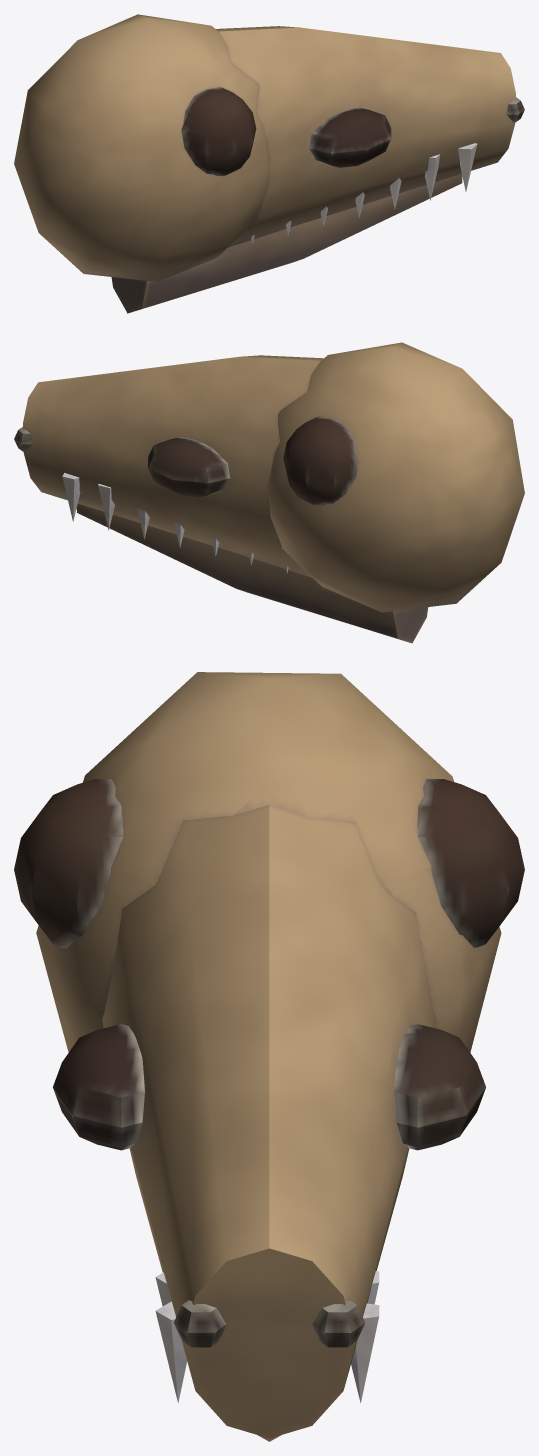
Rendered from dino_skull.glb.
The picture shows the model from 3 angles, top to bottom: view 1: azimuth 30°, elevation 25°; view 2: azimuth 150°, elevation 25°; view 3: azimuth 270°, elevation 25°; orthographic projection. The views are drawn at different scales.
Parts seen in each view (by area): view 1: SM_DinoSkull; view 2: SM_DinoSkull; view 3: SM_DinoSkull.
Boxes of the visible parts, x1,y1,x2,y2 form: SM_DinoSkull: [14, 14, 524, 313]; SM_DinoSkull: [14, 342, 524, 643]; SM_DinoSkull: [14, 672, 524, 1441].
Size of the model in its own units: 0.464 by 0.2727 by 0.224.
Materials: 2 (2 with a texture image).
